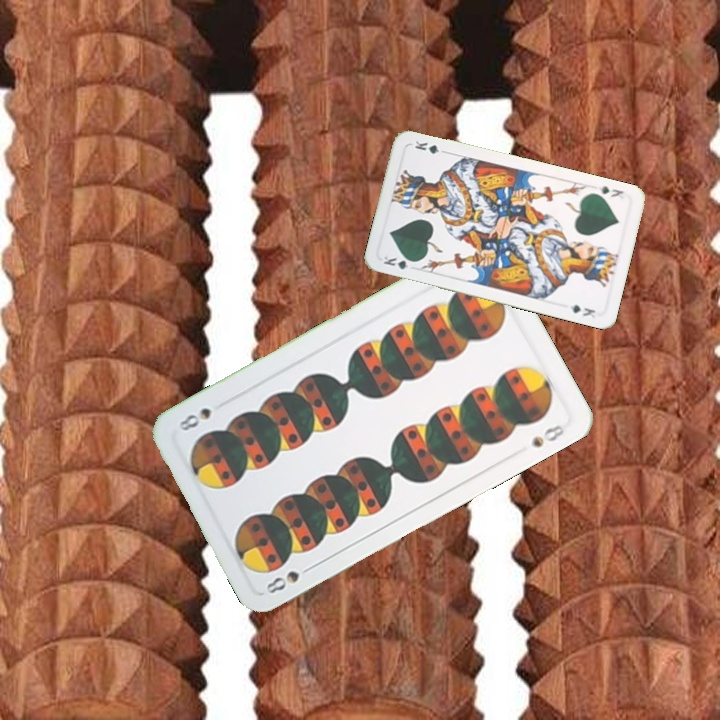GK: (379, 252, 419, 274), (594, 182, 626, 200)
S8: (262, 561, 317, 597)
